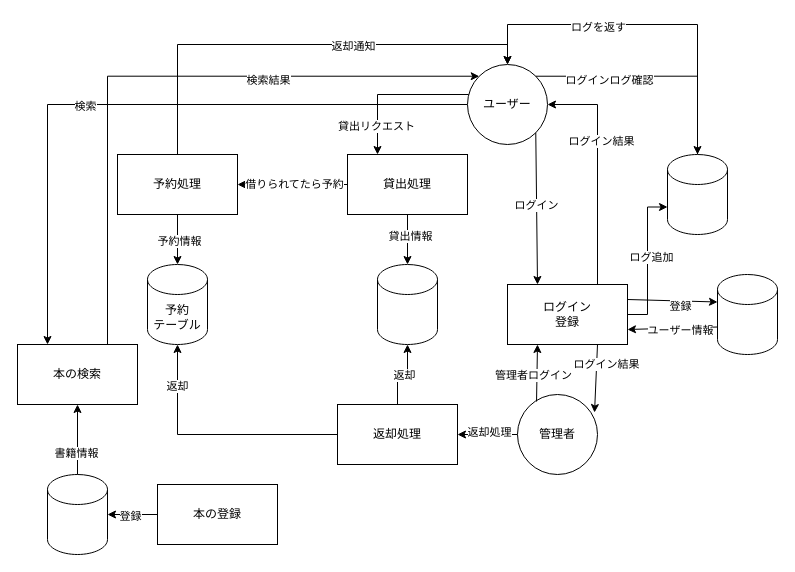
Some shapes in this 795 by 572 pixel diagram are drawn without their labels. The centre of each missing label's shape, as x and y in pixels:
"ユーザー テーブル" goes at (x=747, y=314).
"ログインログ テーブル" goes at (x=697, y=194).
"書籍 テーブル" goes at (x=77, y=514).
"貸出 テーブル" goes at (x=407, y=304).
